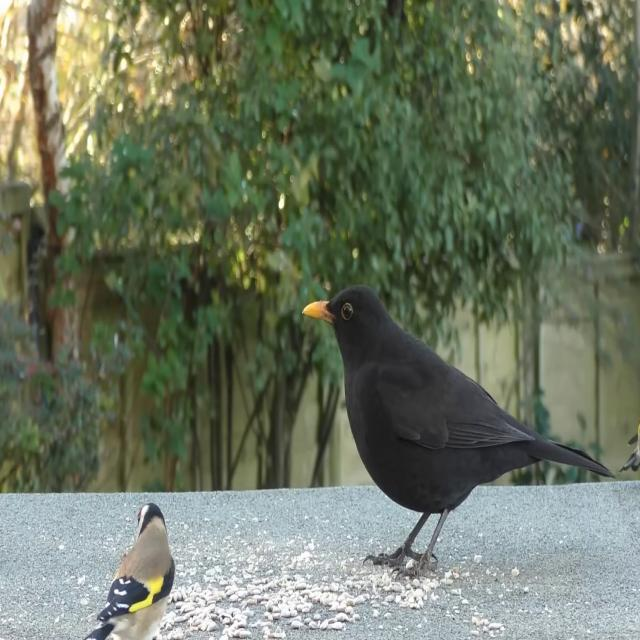beak: (302, 293, 330, 331)
bird: (301, 274, 616, 580), (85, 499, 176, 640), (622, 416, 640, 488)
